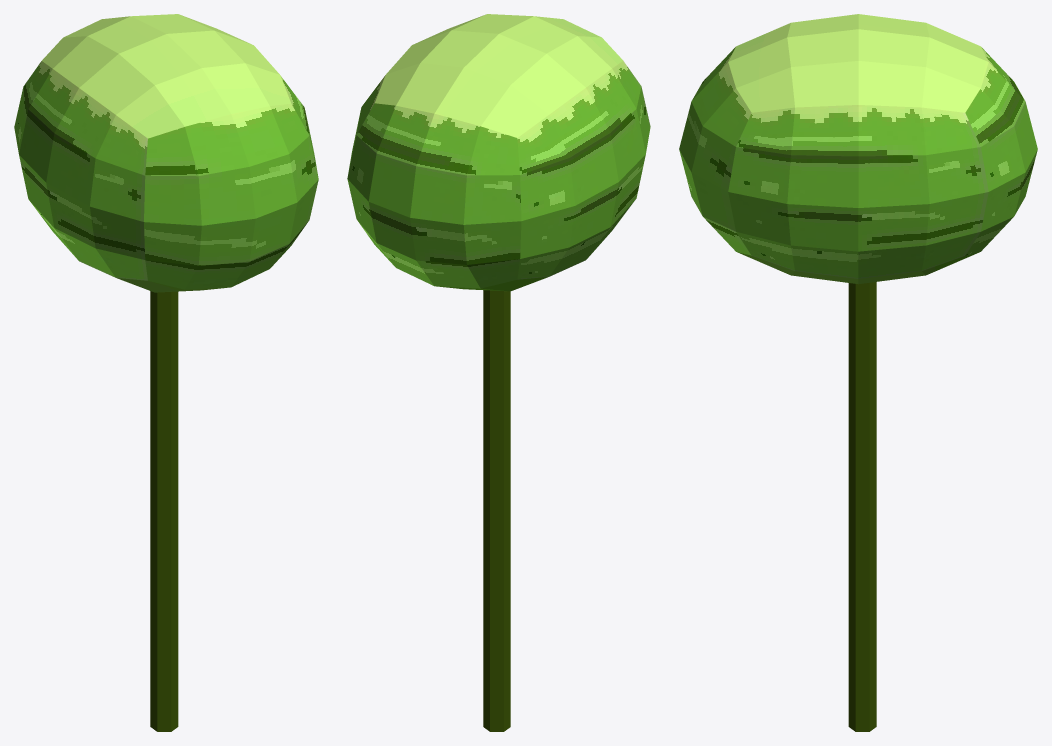
Rendered from Sandia.fbx.
3 renders of one model, left to right at view 1: azimuth 30°, elevation 25°; view 2: azimuth 150°, elevation 25°; view 3: azimuth 270°, elevation 25°, orthographic.
Parts seen in each view (by area): view 1: Sandia; view 2: Sandia; view 3: Sandia.
Boxes of the visible parts, left/top/right/bottom form: Sandia: left=14, top=14, right=318, bottom=731; Sandia: left=347, top=14, right=650, bottom=731; Sandia: left=679, top=14, right=1037, bottom=731.
Size of the model in its own units: 85.28 by 235 by 110.
